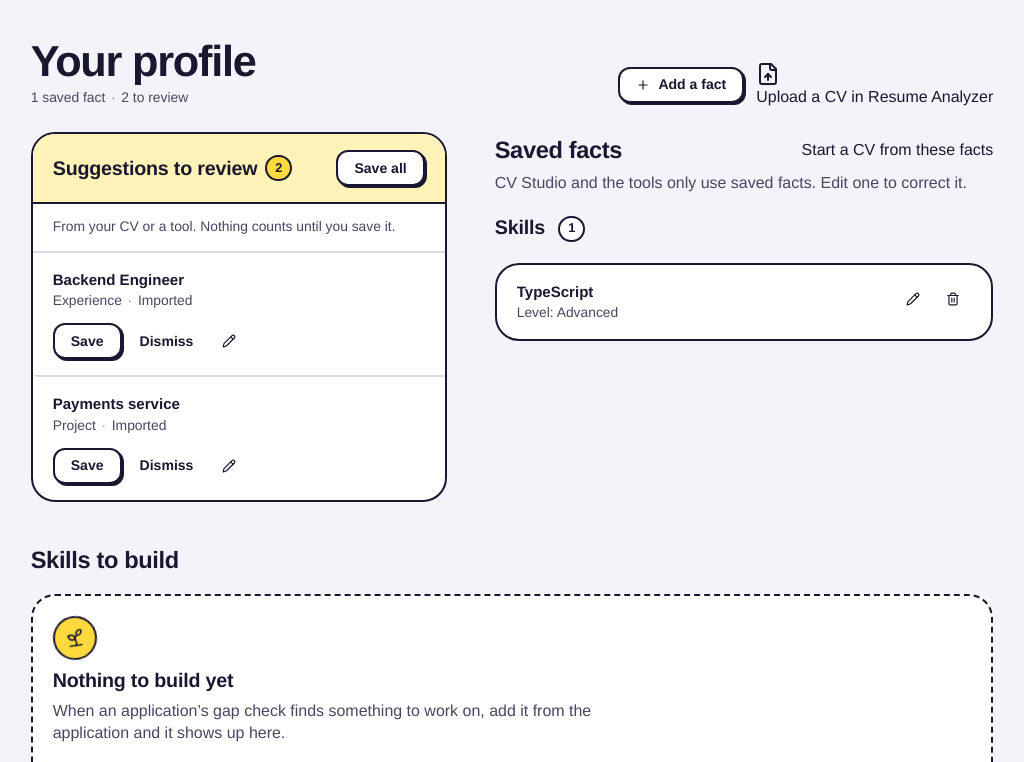
EvidenceProfilePage › tells the owner when saving a suggestion fails
Click the button with aria-label "Save Backend Engineer". click: click(87, 341)
box: 53,323 -> 122,359
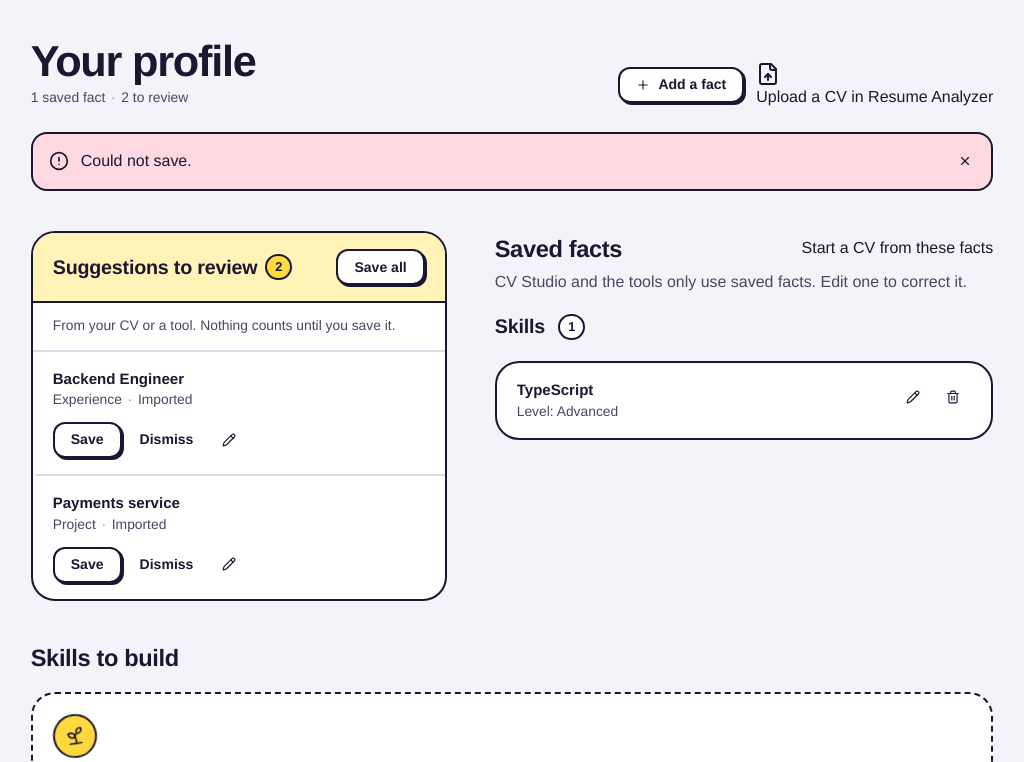
Expected: the text "Could not save." is shown, 81,151 -> 192,171
